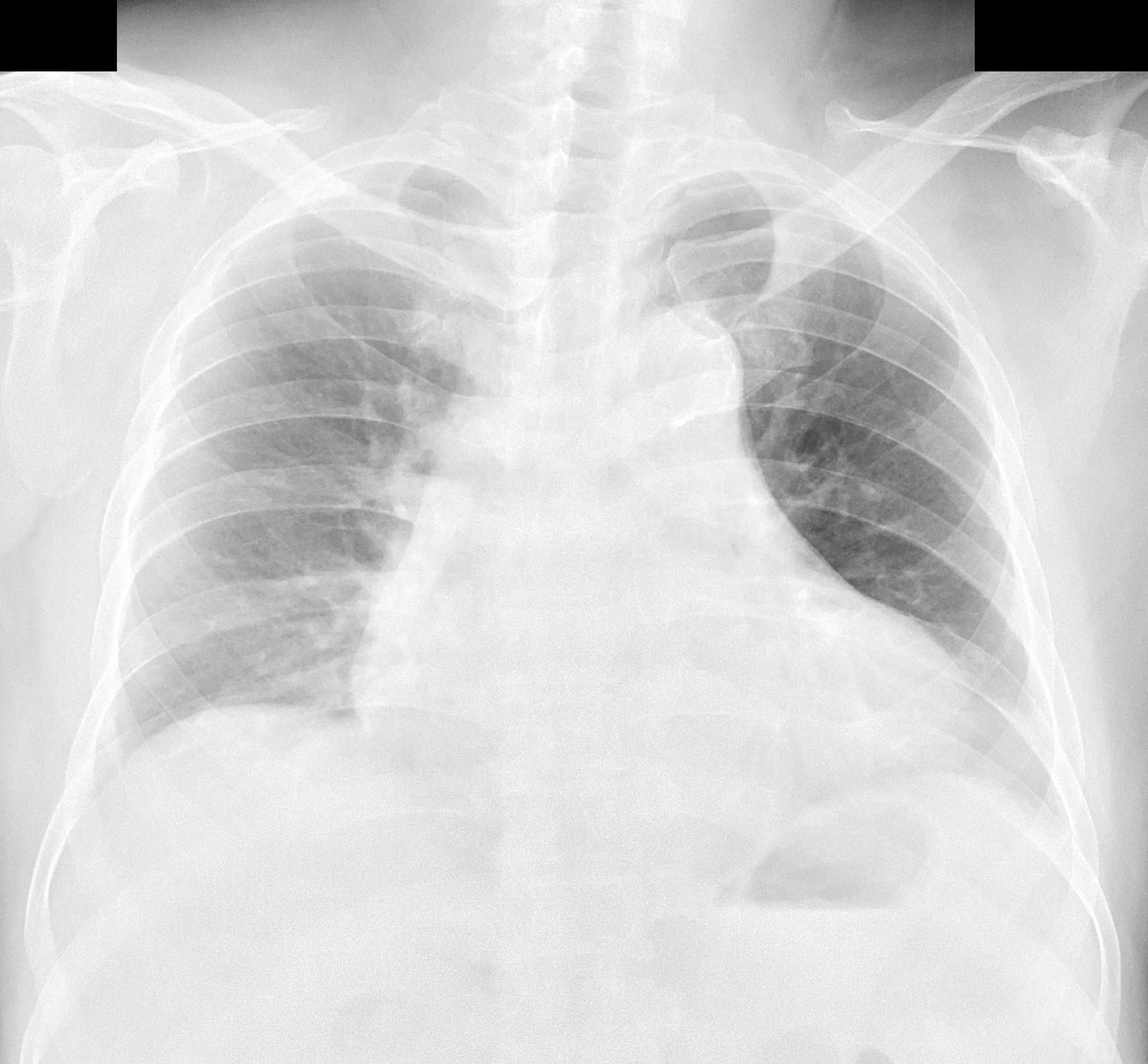Aortic enlargement: (583, 301, 756, 477)
Cardiomegaly: (346, 614, 979, 799)
